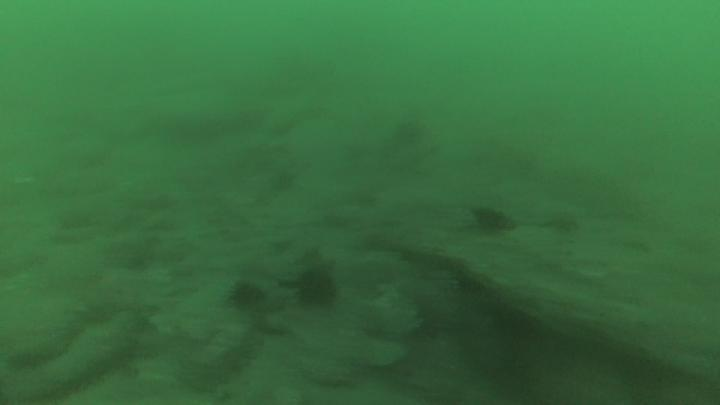echinus: (301, 270, 336, 305), (476, 207, 515, 234), (229, 282, 264, 308)
